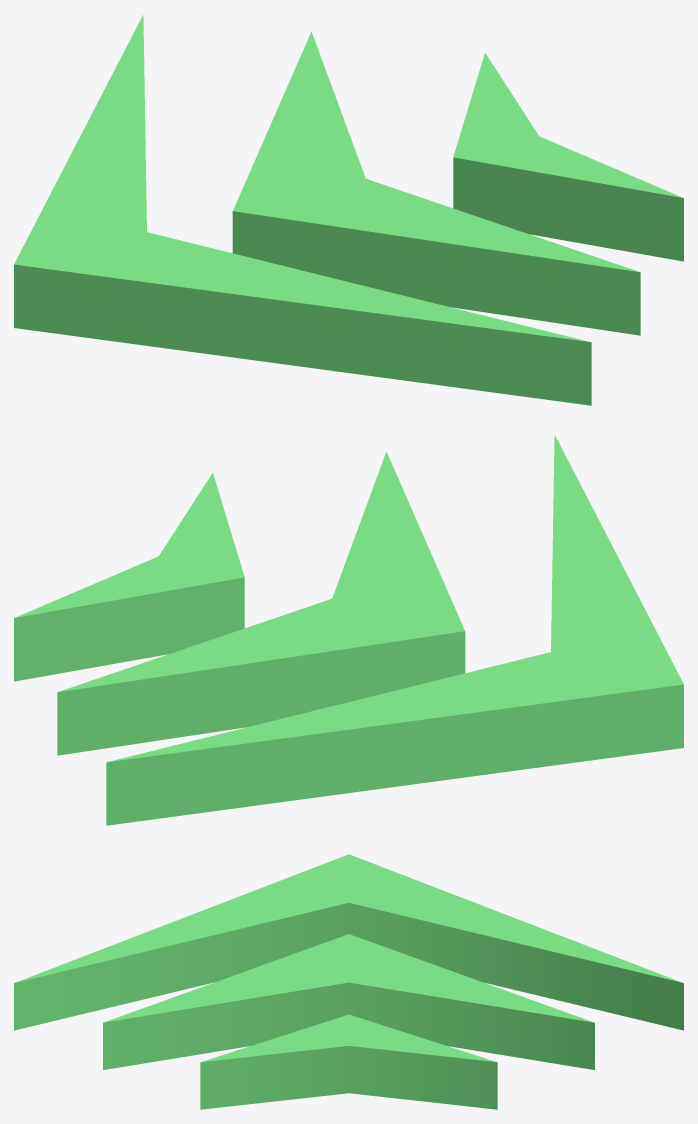
Rendered from shockWave.fbx.
3 views of the same model, one above another, from view 1: azimuth 30°, elevation 25°; view 2: azimuth 150°, elevation 25°; view 3: azimuth 270°, elevation 25° (orthographic). The views are drawn at different scales.
Parts seen in each view (by area): view 1: pCube4; view 2: pCube4; view 3: pCube4.
Boxes of the visible parts, box(x1,y1,x2,y2) form: pCube4: box(14, 15, 683, 405); pCube4: box(14, 435, 683, 825); pCube4: box(14, 854, 683, 1109).
Size of the model in its own units: 0.7348 by 0.0781 by 1.
1 material, 1 textured.
